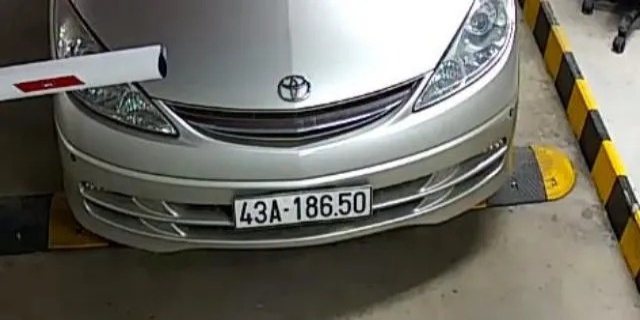bien_so: (236, 190, 370, 224)
